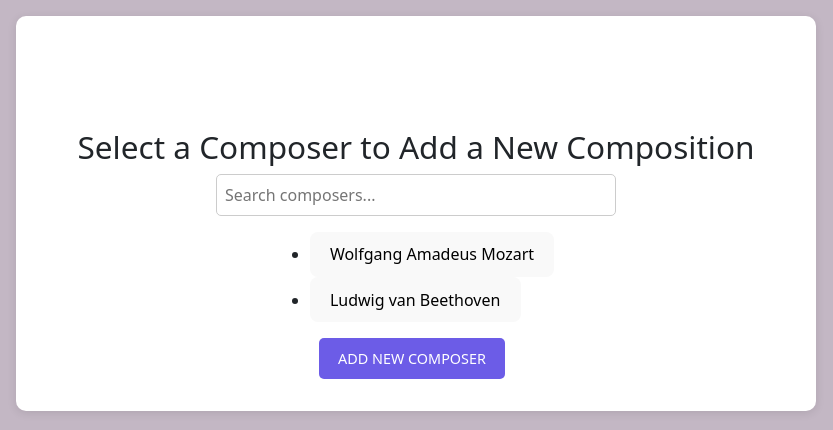
ComposerSelection › filters composers based on search term
The width and height of the screenshot is (833, 430).
Type "beethoven" into the field with placeholder "Search composers..." at point(416, 195), box x1=216 y1=174 x2=616 y2=216
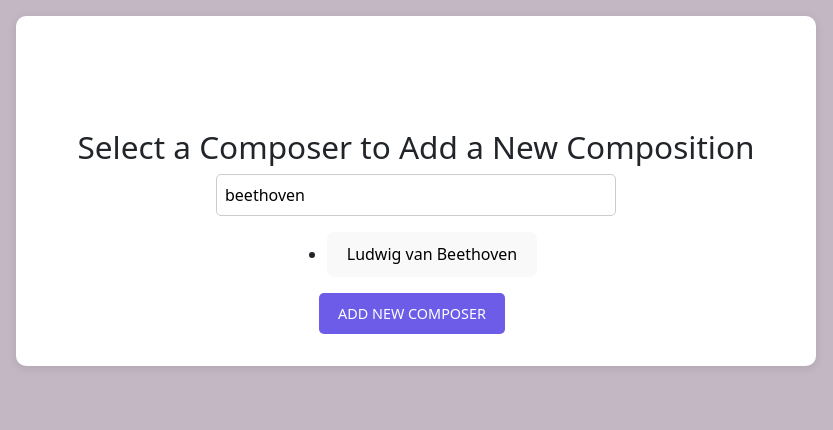
Expected: the button "Ludwig van Beethoven" is shown, x1=327 y1=232 x2=538 y2=277
Expected: the button "Wolfgang Amadeus Mozart" is gone
